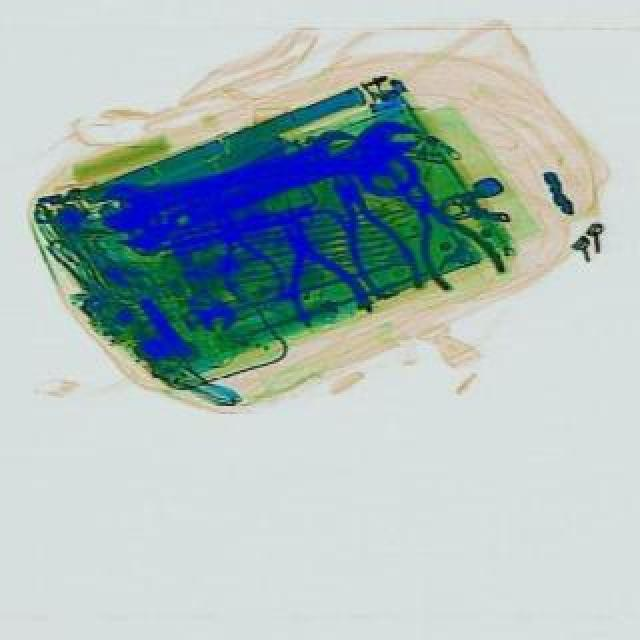scissors: (124, 108, 420, 250), (88, 122, 364, 234), (156, 232, 238, 336)
wrench: (366, 150, 506, 302), (310, 158, 426, 306), (252, 204, 372, 336), (200, 214, 290, 314)
